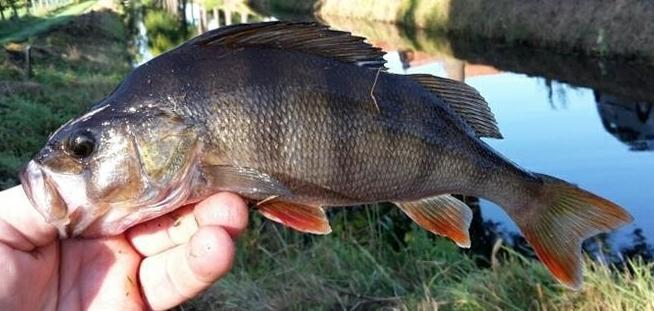Perch: (26, 16, 642, 284)
